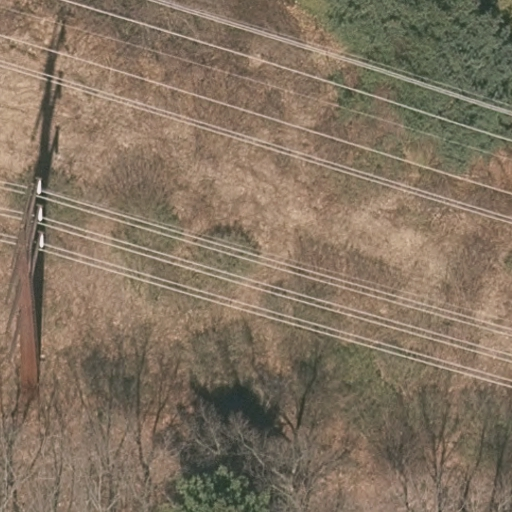TT: (1, 176, 48, 390)
